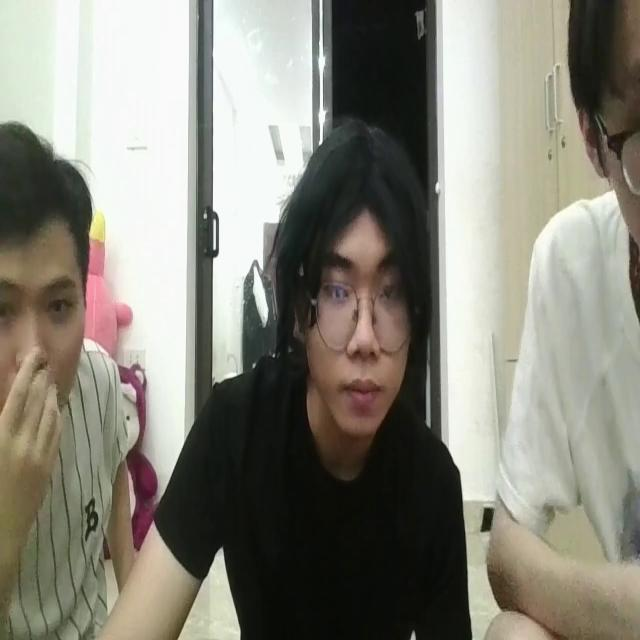extra_person: (489, 0, 640, 640), (1, 107, 138, 637)
student: (108, 115, 475, 640)
